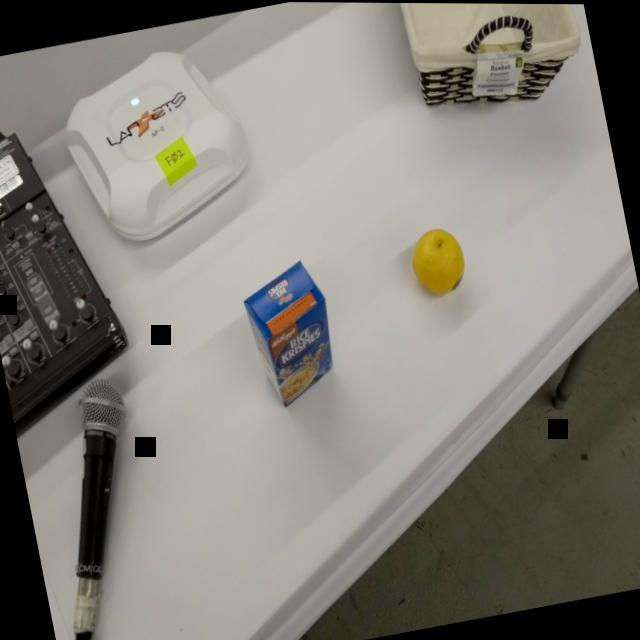cereal: (233, 251, 349, 417)
orange: (402, 217, 475, 306)
